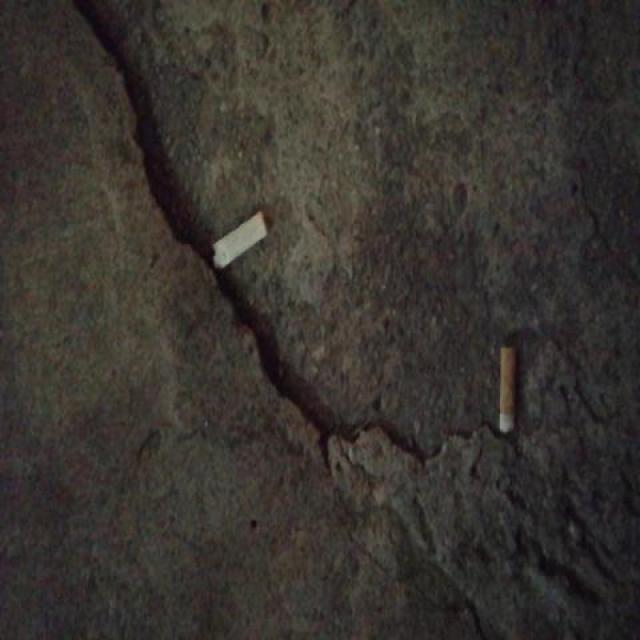non-organic waste: (210, 208, 270, 276), (494, 342, 521, 438)
